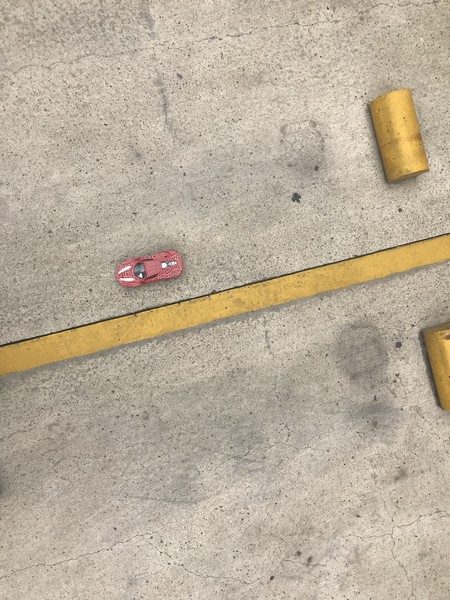RC: (114, 248, 184, 290)
